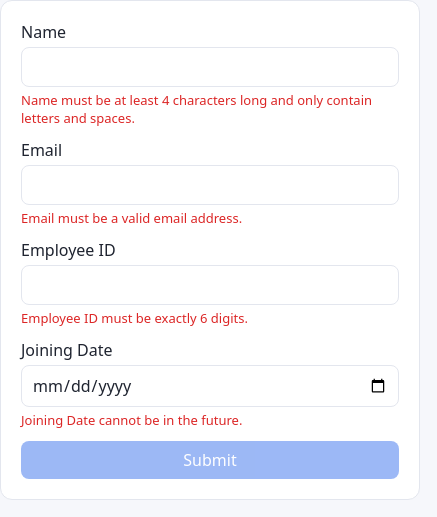
Employee Validation › enables Submit when all fields are valid, and resets the form on submit
The width and height of the screenshot is (437, 517).
Step 1. Type "Jane Doe" into the field labelled "Name" → (210, 67), box [21, 47, 399, 87]
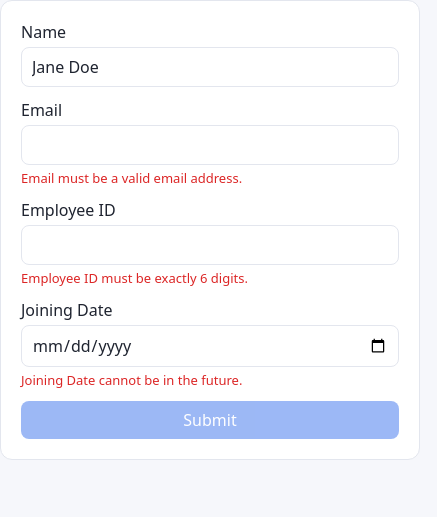
Step 2. Type "jane@example.com" into the field labelled "Email" → (210, 145), box [21, 125, 399, 165]
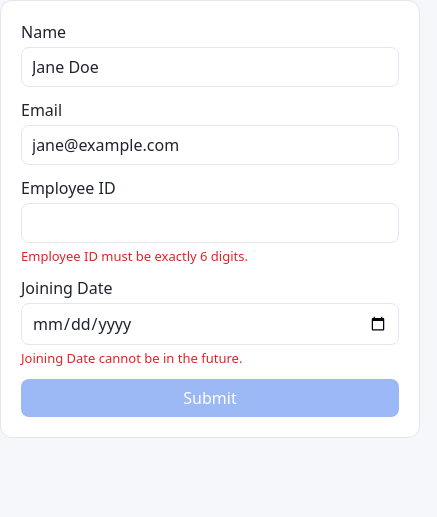
Step 3. Type "123456" into the field labelled "Employee ID" → (210, 223), box [21, 203, 399, 243]
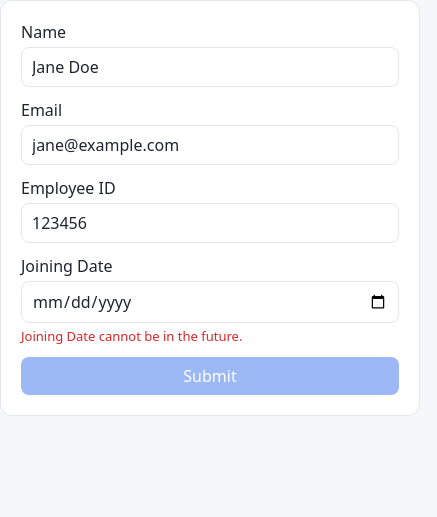
Step 4. Type "2020-05-01" into the date field labelled "Joining Date" → (210, 302), box [21, 281, 399, 323]
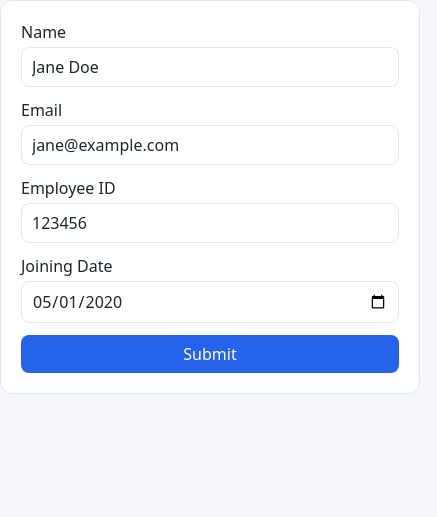
Result: the button "Submit" is enabled
Step 5. Click the button "Submit" → (210, 354), box [21, 335, 399, 373]
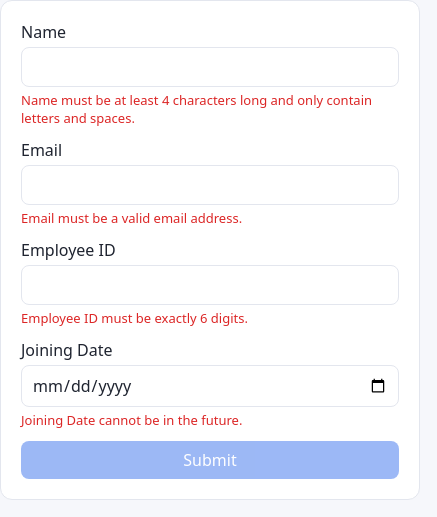
Result: the field labelled "Name" is empty at [21, 47, 399, 87]
Result: the field labelled "Employee ID" is empty at [21, 265, 399, 305]
Result: the button "Submit" is disabled at [21, 441, 399, 479]
